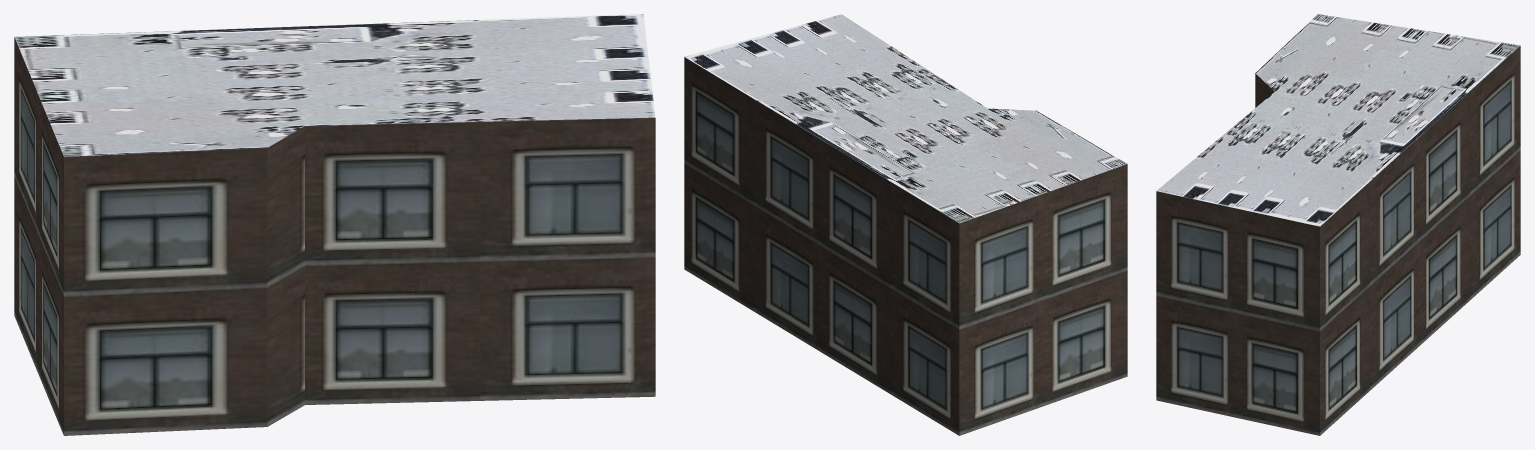
Rendered from ResTex__2063.fbx.
3 views of the same model, side by side, from view 1: azimuth 30°, elevation 25°; view 2: azimuth 150°, elevation 25°; view 3: azimuth 270°, elevation 25° (orthographic). The views are drawn at different scales.
Parts seen in each view (by area): view 1: CityEngineMaterial_16_m, CityEngineMaterial_15_m; view 2: CityEngineMaterial_16_m, CityEngineMaterial_15_m; view 3: CityEngineMaterial_16_m, CityEngineMaterial_15_m.
Part boxes in pixels (box(x1,y1,x2,y2)): CityEngineMaterial_16_m: box(14, 37, 655, 435); CityEngineMaterial_15_m: box(14, 14, 655, 156); CityEngineMaterial_16_m: box(684, 57, 1127, 435); CityEngineMaterial_15_m: box(684, 14, 1127, 223); CityEngineMaterial_16_m: box(1156, 46, 1520, 435); CityEngineMaterial_15_m: box(1157, 14, 1520, 226).
Bounding box in the file's own units: 13.07 × 6 × 9.47.
2 materials, 2 textured.
